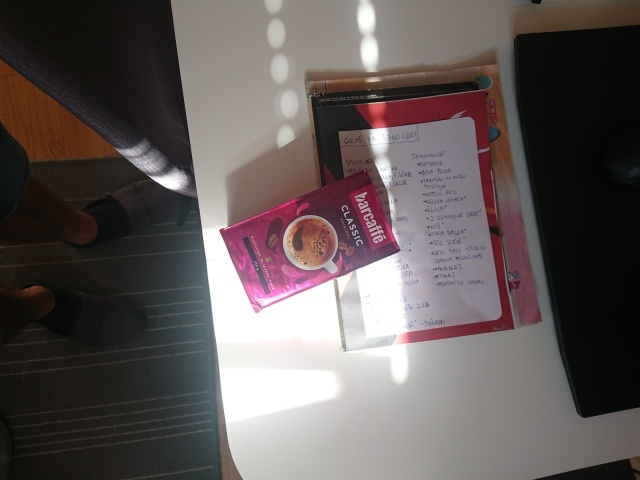Barcaffe Classic Original 225g: (217, 167, 403, 316)
